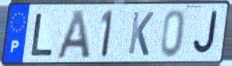0: (159, 8, 187, 60)
1: (99, 9, 114, 59)
A: (55, 8, 92, 61)
J: (192, 10, 219, 57)
K: (126, 10, 155, 58)
L: (29, 12, 55, 58)
